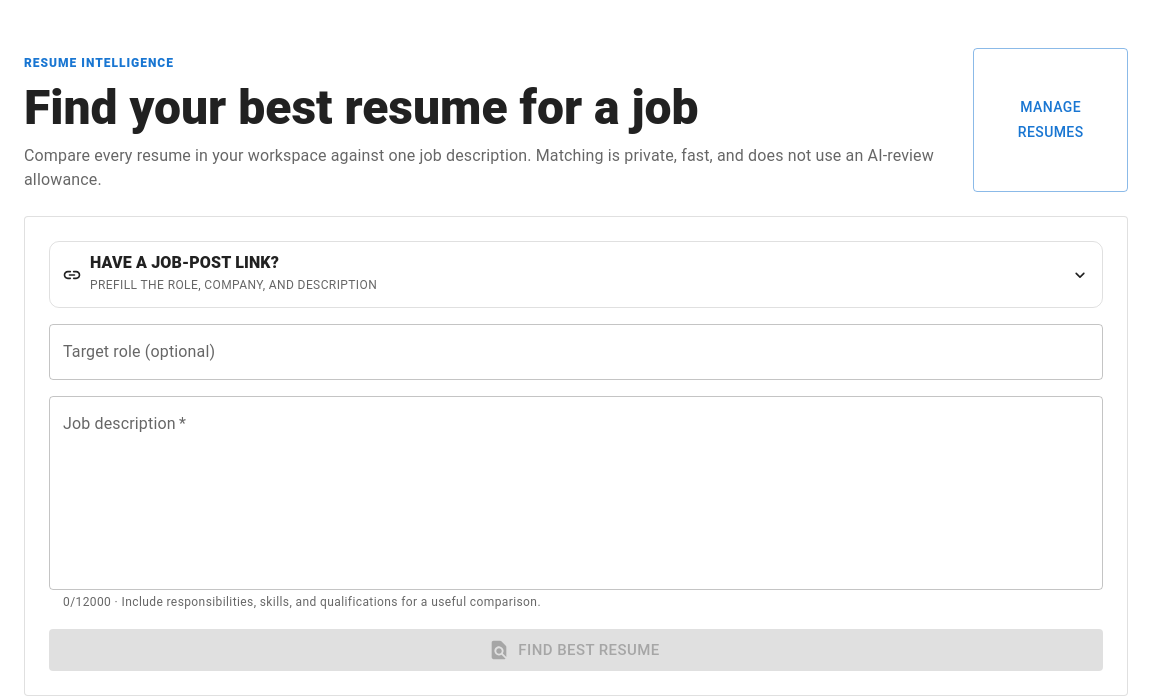
best resume matcher › ranks owned resumes and highlights the best match
In the text box labelled "Job description *": {"x": 576, "y": 493} x1=63 y1=413 x2=1089 y2=574, type "Build accessible React applications with automated testing, GraphQL, and performance optimization."
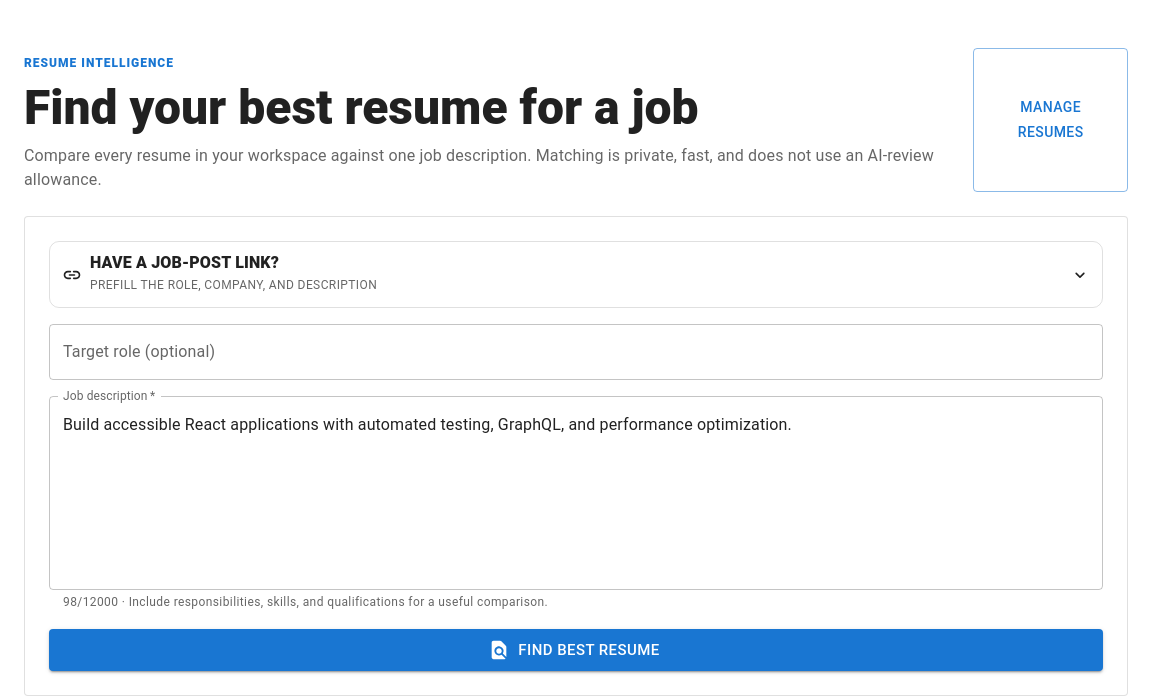
Click the button "Find best resume": {"x": 576, "y": 650} x1=49 y1=629 x2=1103 y2=671
(page scrolled)
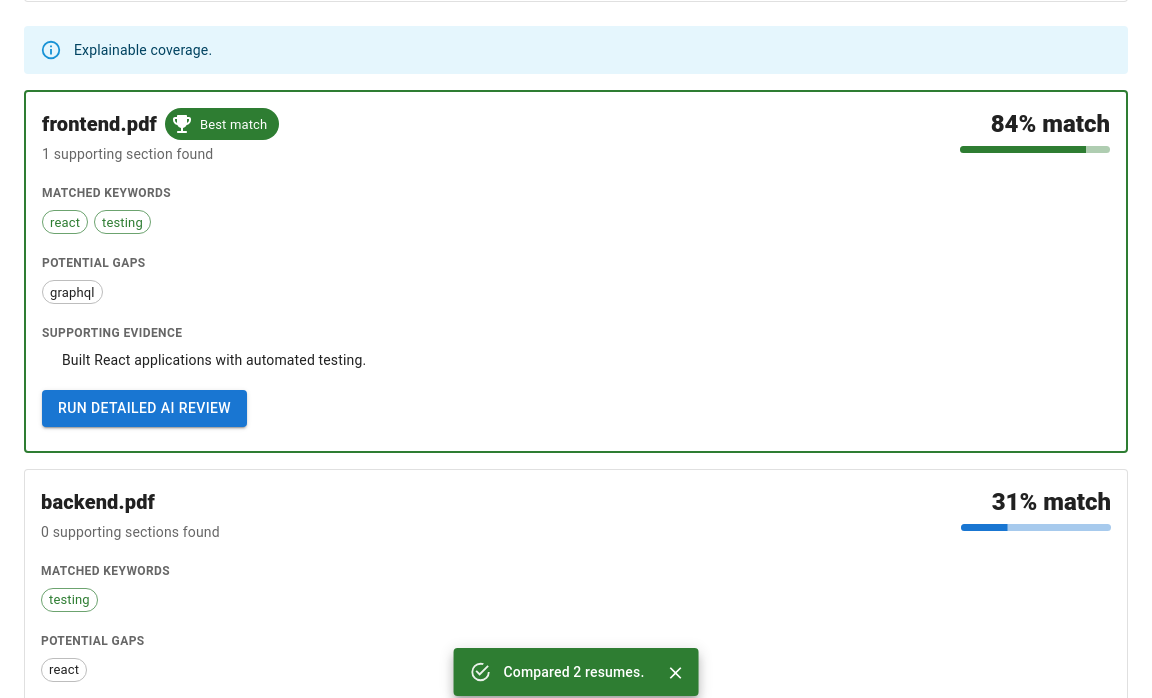
Expected: the text "Best match" is shown, x1=200 y1=117 x2=267 y2=132
Expected: the heading "84% match" is shown, x1=991 y1=110 x2=1110 y2=138
Expected: the list item "Built React applications with automated testing." is shown, x1=62 y1=352 x2=366 y2=368
